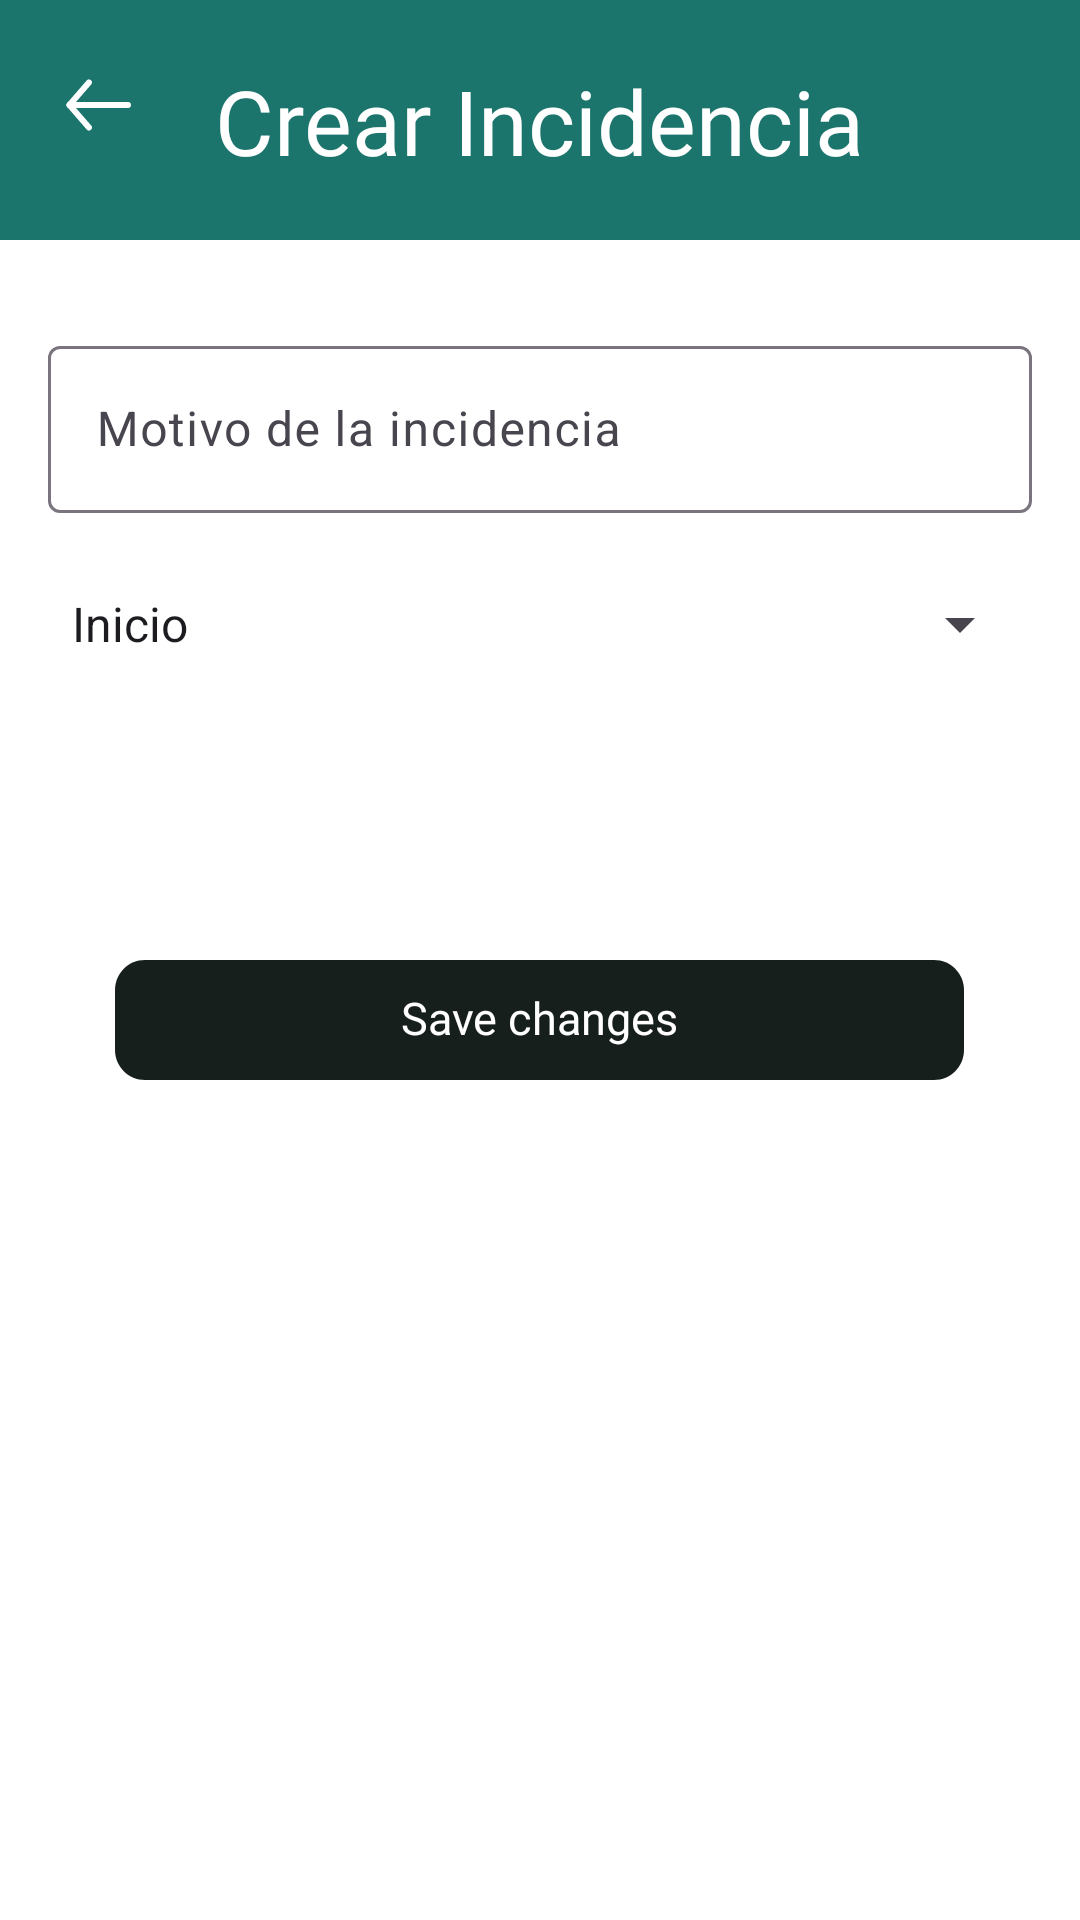

Screen size 1080*1920. Icon name, then its box in pixels as (x1, y1, x2, y2):
volverperfil: (66, 79, 131, 131)
